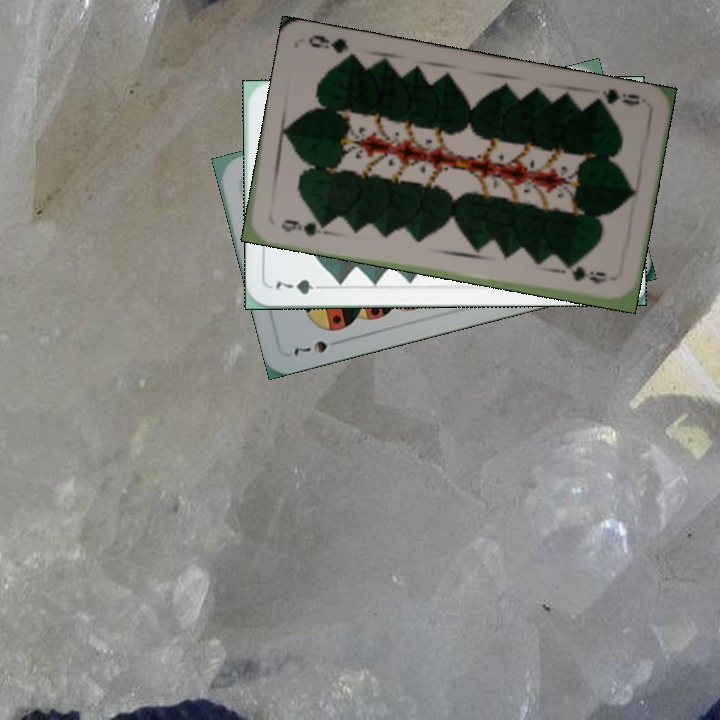G7: (272, 275, 329, 297)
G9: (586, 84, 643, 111), (277, 215, 329, 240)
S7: (289, 336, 330, 360)
